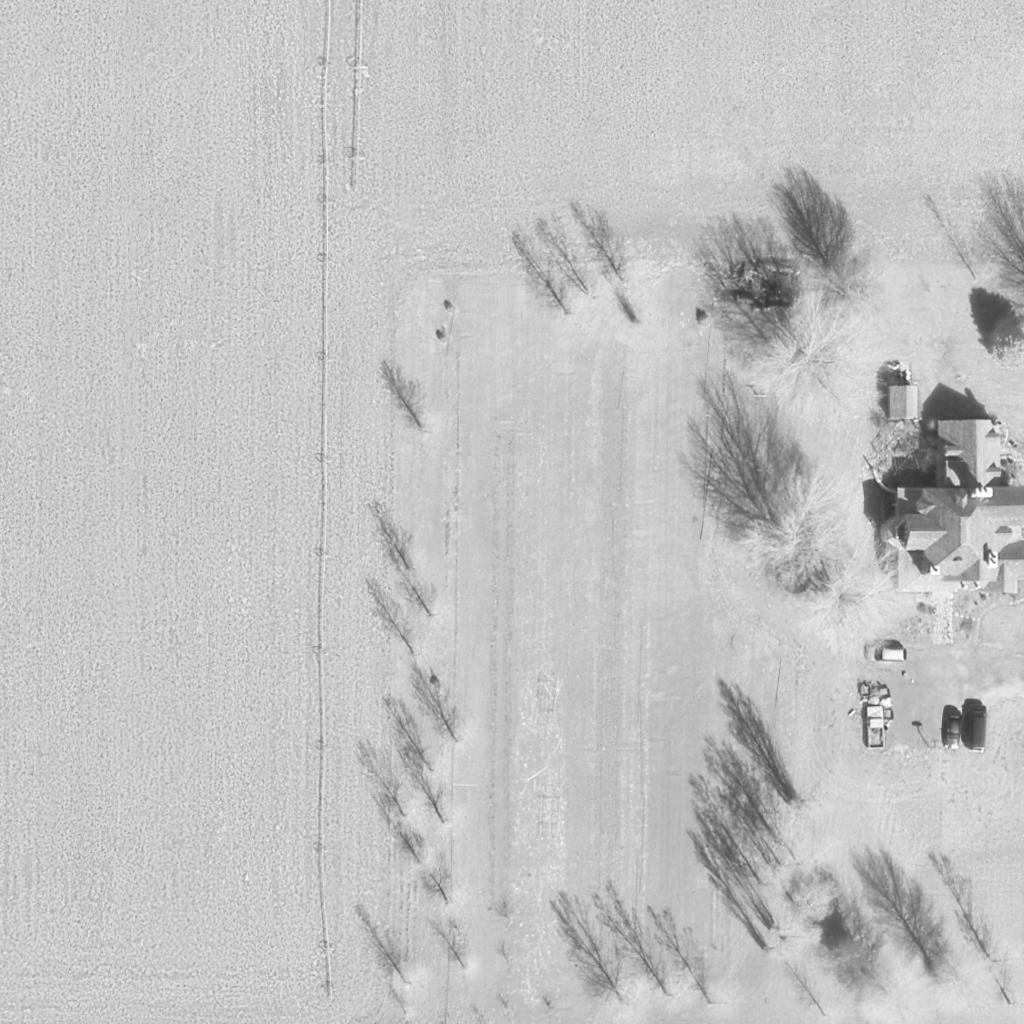vehicle: (968, 703, 988, 753), (866, 708, 886, 750), (864, 645, 908, 663), (945, 709, 963, 753)
